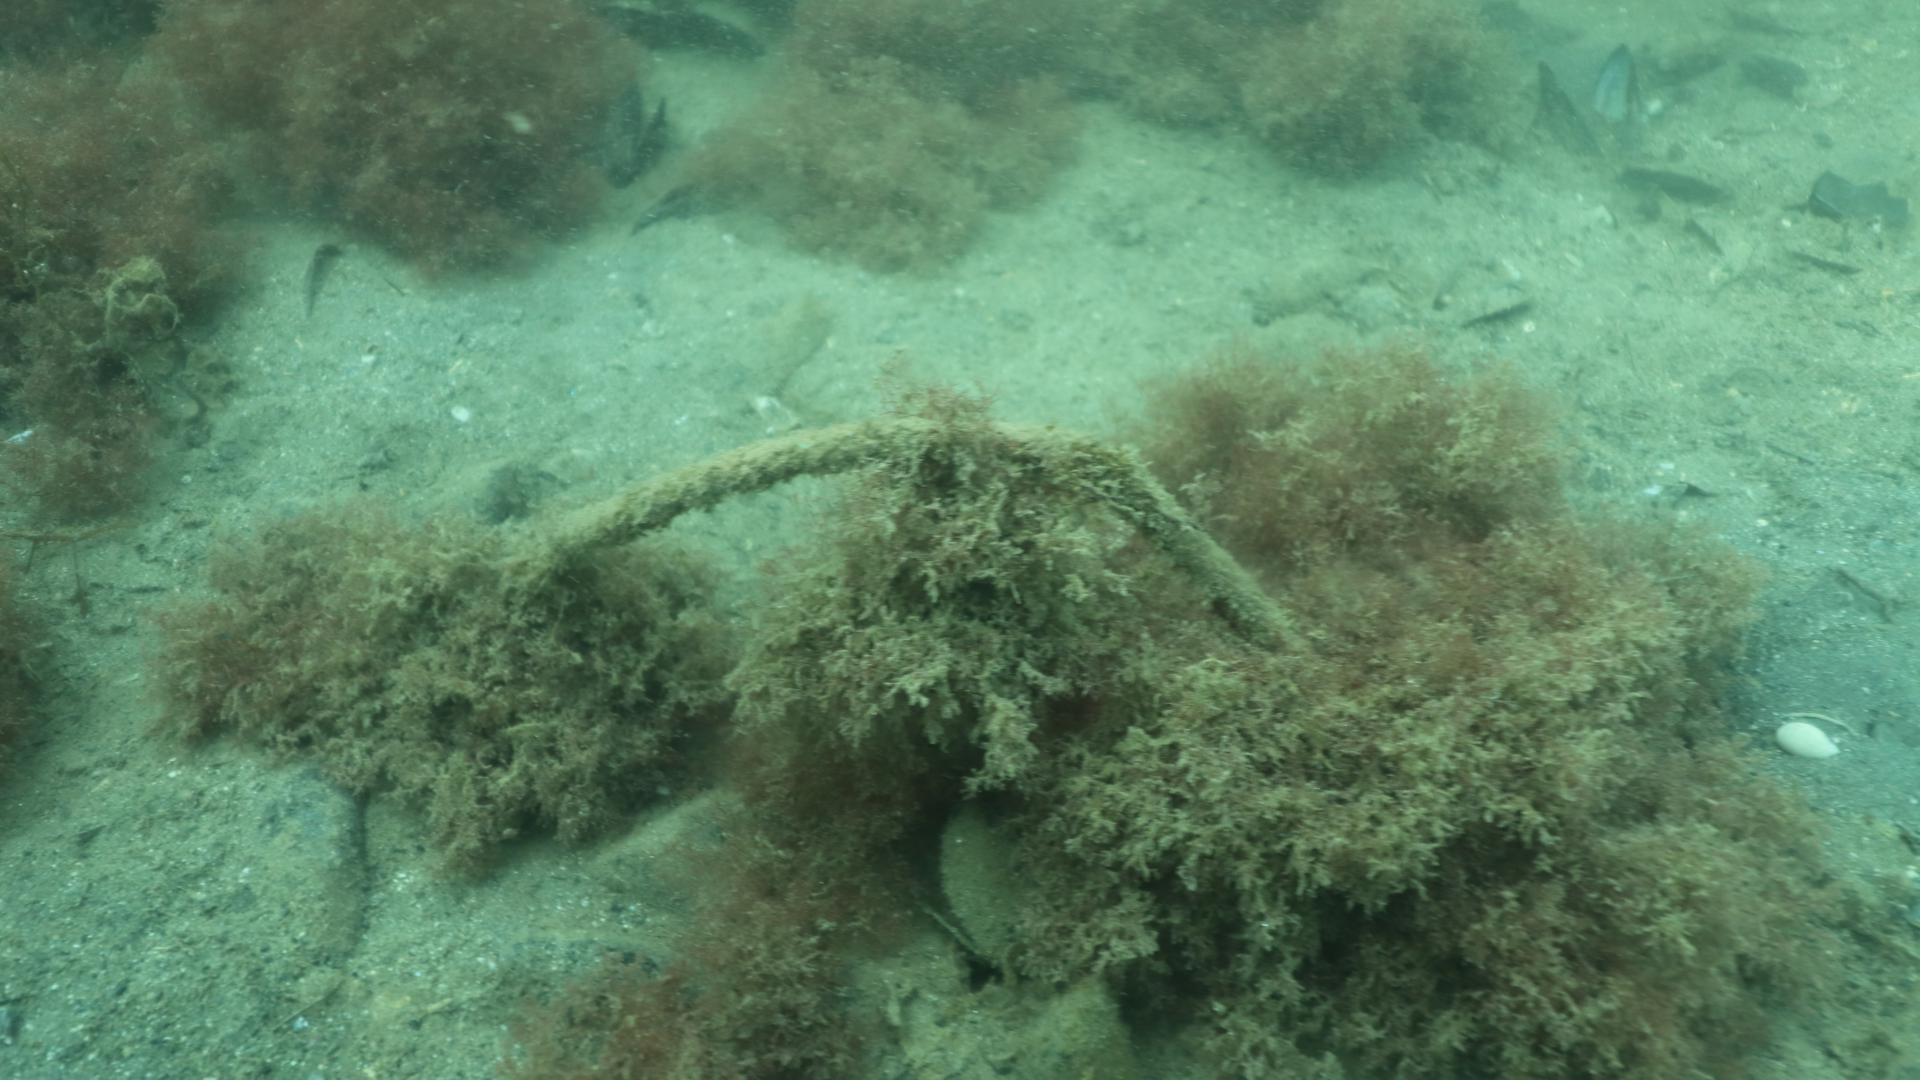rope: (541, 409, 1316, 659)
